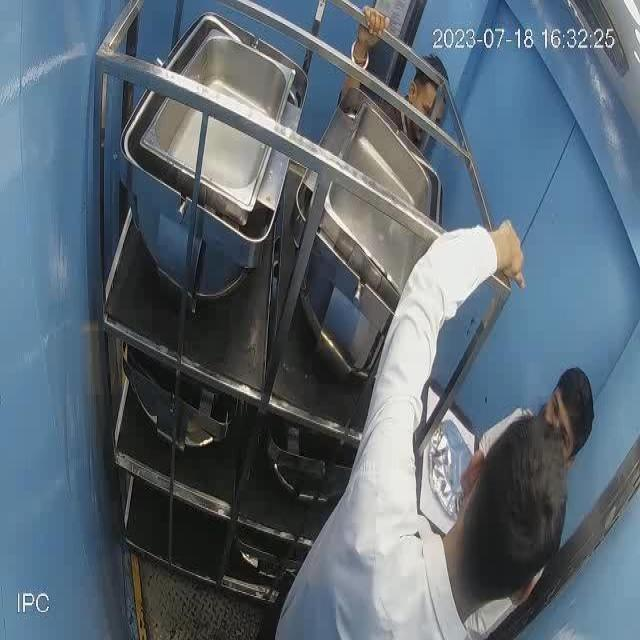person: (261, 217, 567, 640), (471, 335, 619, 521), (353, 0, 459, 145)
